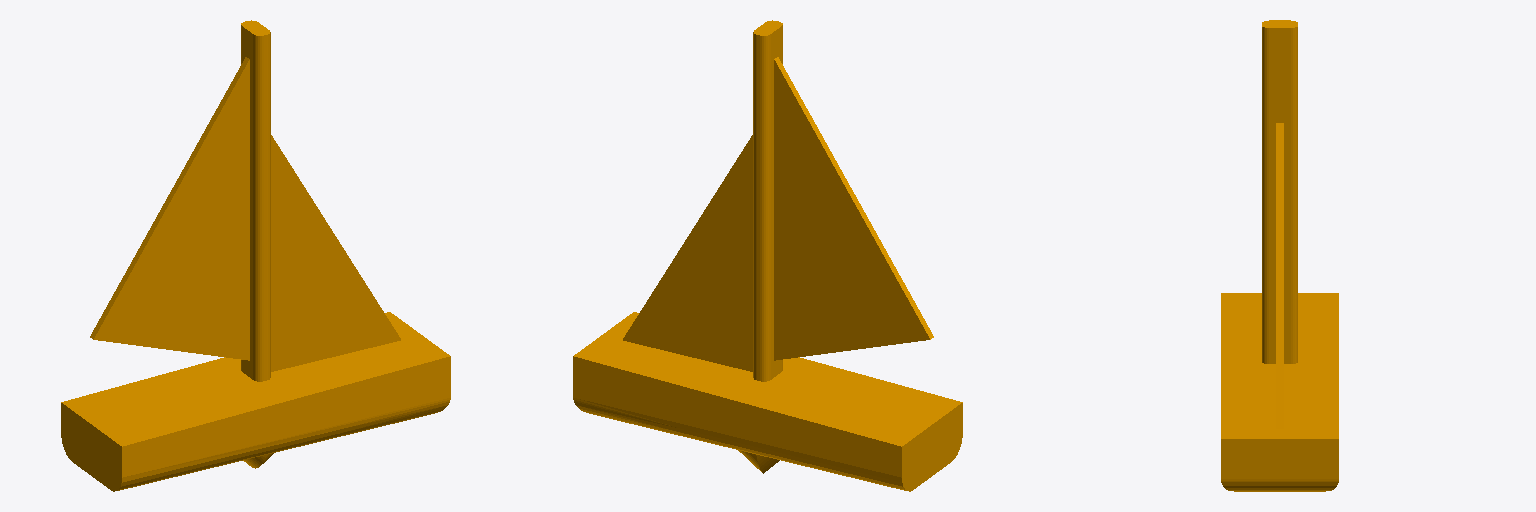
robot.urdf — sail_boat_vessel:
<?xml version="1.0"?>
<!-- Controllable sail boat traffic vessel. Mesh/scale/collision box match
     models/sail_boat_vessel/model.sdf (the static version of this same
     vessel used in world/colav_scenario.world) - see that file for how the
     8x scale and box dims were derived from the raw mesh's bounding box.

     origin on inertial/visual/collision is the mesh's own scaled
     bounding-box center, negated, so base_link's origin sits at the hull's
     geometric center (same convention as hydrofoil.urdf) - keeping
     inertial and collision origins identical is what matters for physics
     stability (see the comment in hydrofoil.urdf's <inertial> for why).

     Mass (4000 kg) is an estimate for a ~8m recreational sailboat - no
     real spec exists for this mesh, so it's picked as a plausible
     displacement for the vessel class rather than derived from the mesh.
     Inertia is then the solid-box approximation for that mass and the
     collision box dims (Ixx=m(y^2+z^2)/12 etc.), the same method the
     hydrofoil's own inertia was computed with. -->
<robot name="sail_boat_vessel">
    <link name="base_link">
        <inertial>
            <origin xyz="0 0 -4.336" rpy="0 0 0"/>
            <mass value="4000"/>
            <inertia ixx="37410.67" ixy="0" ixz="0" iyy="56559.47" iyz="0" izz="23517.87"/>
        </inertial>
        <visual>
            <origin xyz="0 0 -4.336" rpy="0 0 0"/>
            <geometry>
                <mesh filename="package://hybraut_nav_colreg_sim/models/sail_boat_vessel/meshes/SailBoat.obj" scale="8 8 8"/>
            </geometry>
        </visual>
        <collision>
            <origin xyz="0 0 -4.336" rpy="0 0 0"/>
            <geometry>
                <box size="8.0 2.56 10.28"/>
            </geometry>
        </collision>
    </link>

    <gazebo reference="base_link">
        <gravity>false</gravity>
    </gazebo>

    <gazebo>
        <static>false</static>
        <plugin filename="gz-sim-velocity-control-system" name="gz::sim::systems::VelocityControl">
        </plugin>
        <plugin filename="gz-sim-odometry-publisher-system" name="gz::sim::systems::OdometryPublisher">
            <!-- Prefixed with the model name - see hydrofoil.urdf's
                 OdometryPublisher block for why: plain odom/base_link here
                 would collide with every other vessel's frame_ids on the
                 shared /tf topic. -->
            <odom_frame>sail_boat_vessel/odom</odom_frame>
            <robot_base_frame>sail_boat_vessel/base_link</robot_base_frame>
            <odom_publish_frequency>50</odom_publish_frequency>
            <dimensions>3</dimensions>
        </plugin>
    </gazebo>
</robot>

--- Facts derived from the render (not from the file) ---
The picture shows the robot from 3 angles, left to right: view 1: azimuth 30°, elevation 25°; view 2: azimuth 150°, elevation 25°; view 3: azimuth 270°, elevation 25°; orthographic projection.
Model sail_boat_vessel with 1 links and 0 joints (none), rooted at base_link, posed all joints at 0.
Links seen in each view (by area): view 1: base_link; view 2: base_link; view 3: base_link.
Boxes of the visible links, x1,y1,x2,y2 form: base_link: [61, 20, 450, 491]; base_link: [573, 20, 962, 491]; base_link: [1221, 20, 1338, 491].
Bounding box of the posed robot: 8 × 2.56 × 10.28 m (x, y, z).
Meshes: 1 distinct files referenced, 1 mesh visuals loaded (1 OBJ).
